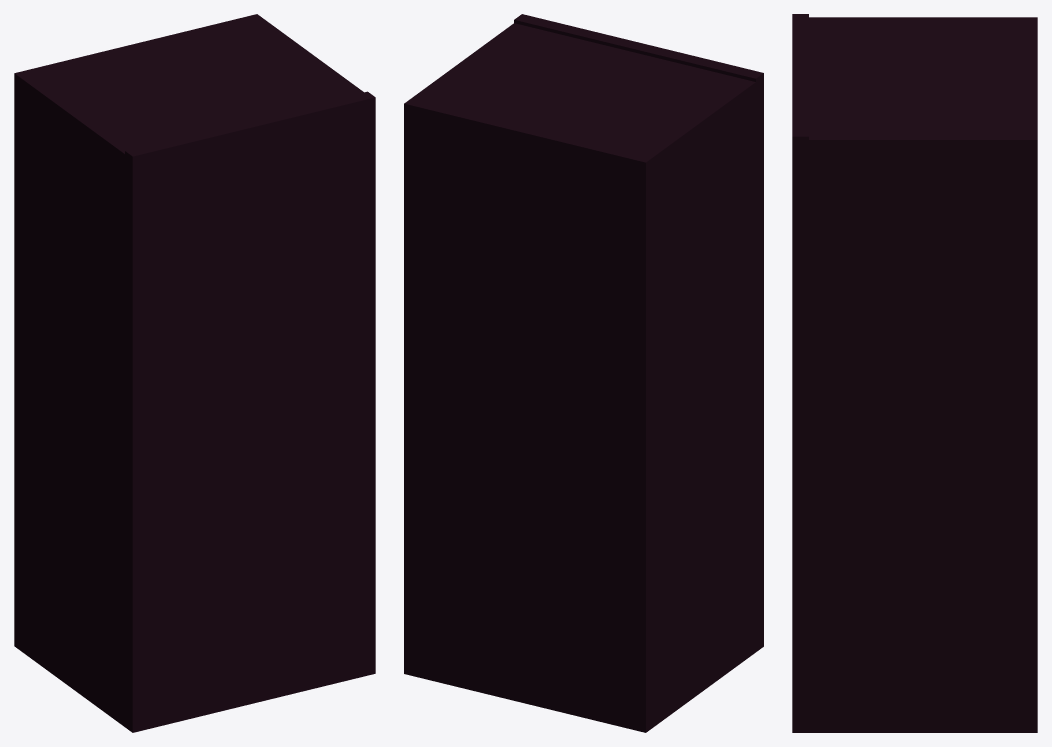
File: _uLanh.fbx
The picture shows the model from 3 angles, left to right: view 1: azimuth 30°, elevation 25°; view 2: azimuth 150°, elevation 25°; view 3: azimuth 270°, elevation 25°; orthographic projection. The views are drawn at different scales.
Parts seen in each view (by area): view 1: TuLanh, KeDoNauAn.003, KeDoNauAn.004; view 2: TuLanh, KeDoNauAn.003, KeDoNauAn.004; view 3: TuLanh, KeDoNauAn.004, KeDoNauAn.003.
Part boxes in pixels (x1,y1,x2,y2): TuLanh: (14,14,363,726); KeDoNauAn.003: (125,121,254,732); KeDoNauAn.004: (246,91,375,703); TuLanh: (404,23,755,732); KeDoNauAn.003: (635,43,763,651); KeDoNauAn.004: (514,14,642,52); TuLanh: (809,17,1037,732); KeDoNauAn.004: (792,75,808,732); KeDoNauAn.003: (792,14,808,75).
Size of the model in its own units: 0.8822 by 2 by 0.7452.
